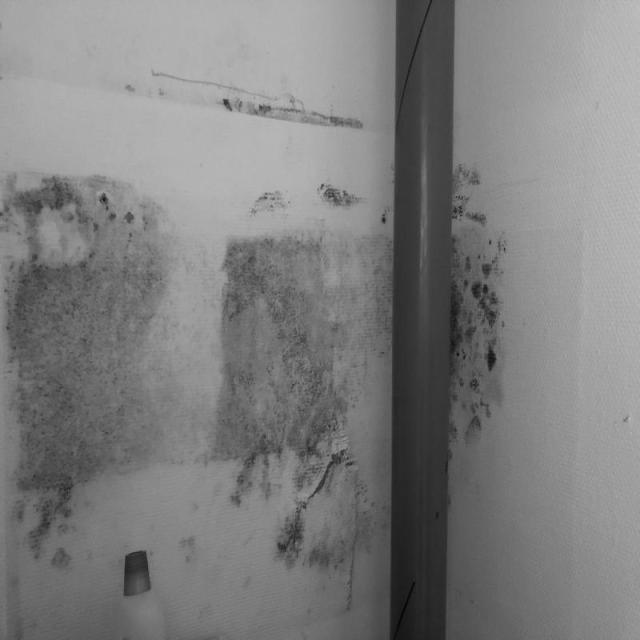stain marks: (15, 124, 579, 562)
